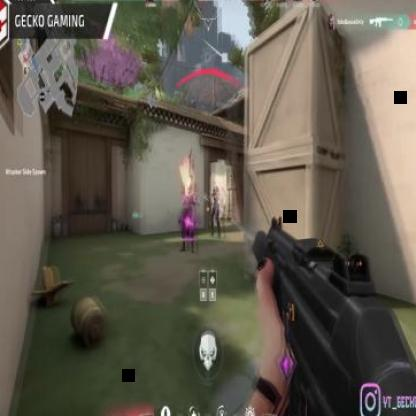enemy: (208, 184, 223, 242)
enemy_head: (214, 182, 218, 191)
